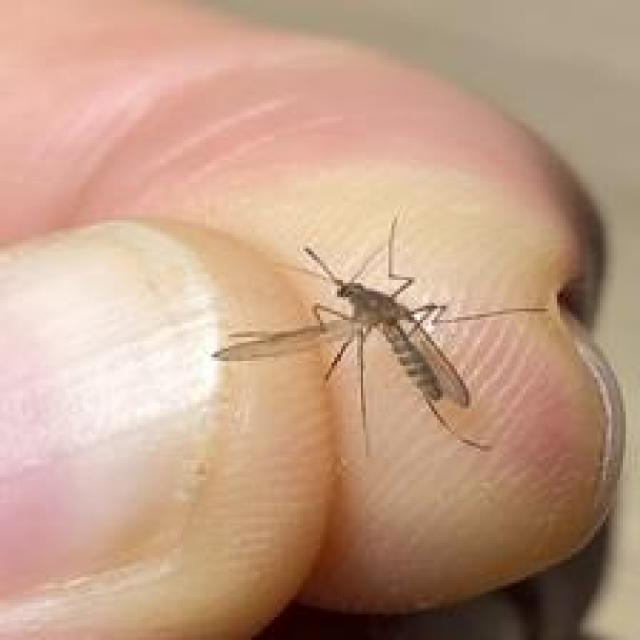Culex: (210, 214, 547, 457)
